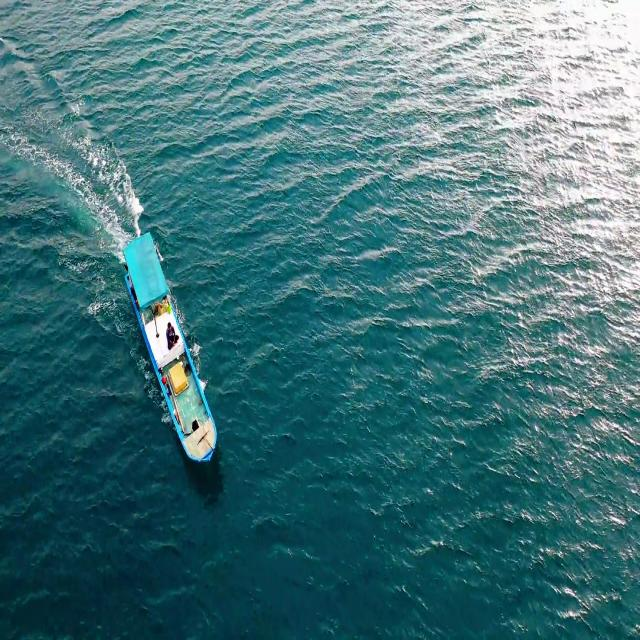ship: (115, 230, 226, 472)
